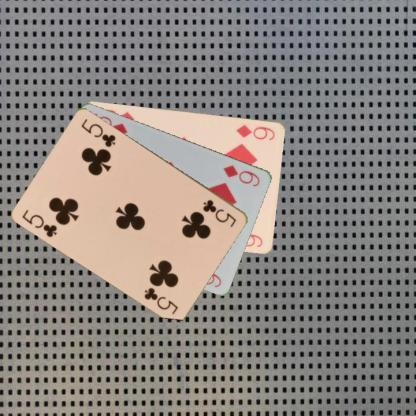5c: (19, 207, 60, 238), (200, 196, 238, 229)
6d: (221, 162, 262, 188), (234, 122, 276, 141)
